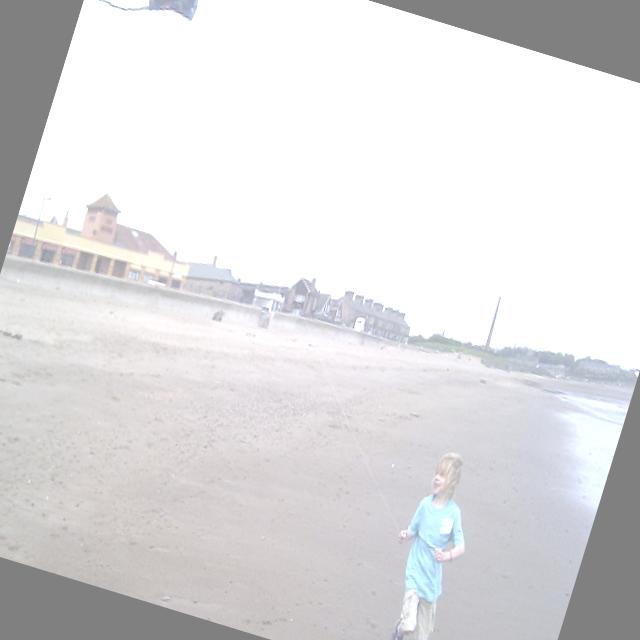Vehicle: (353, 316, 367, 332)
